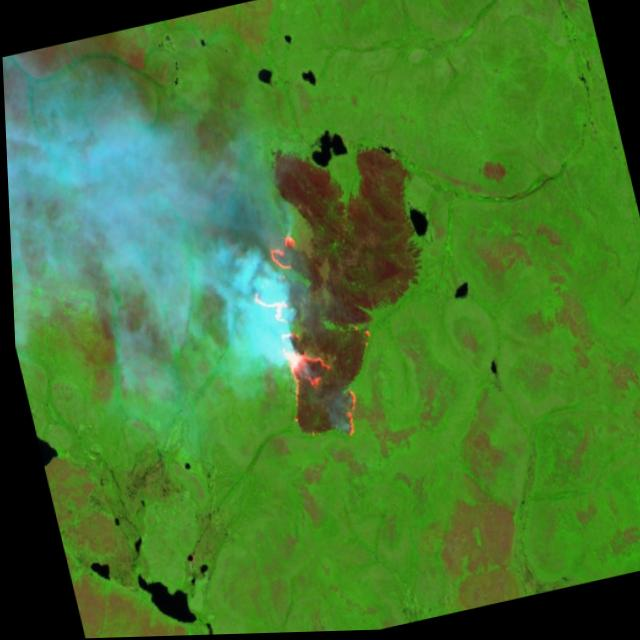fire: (234, 223, 362, 455)
